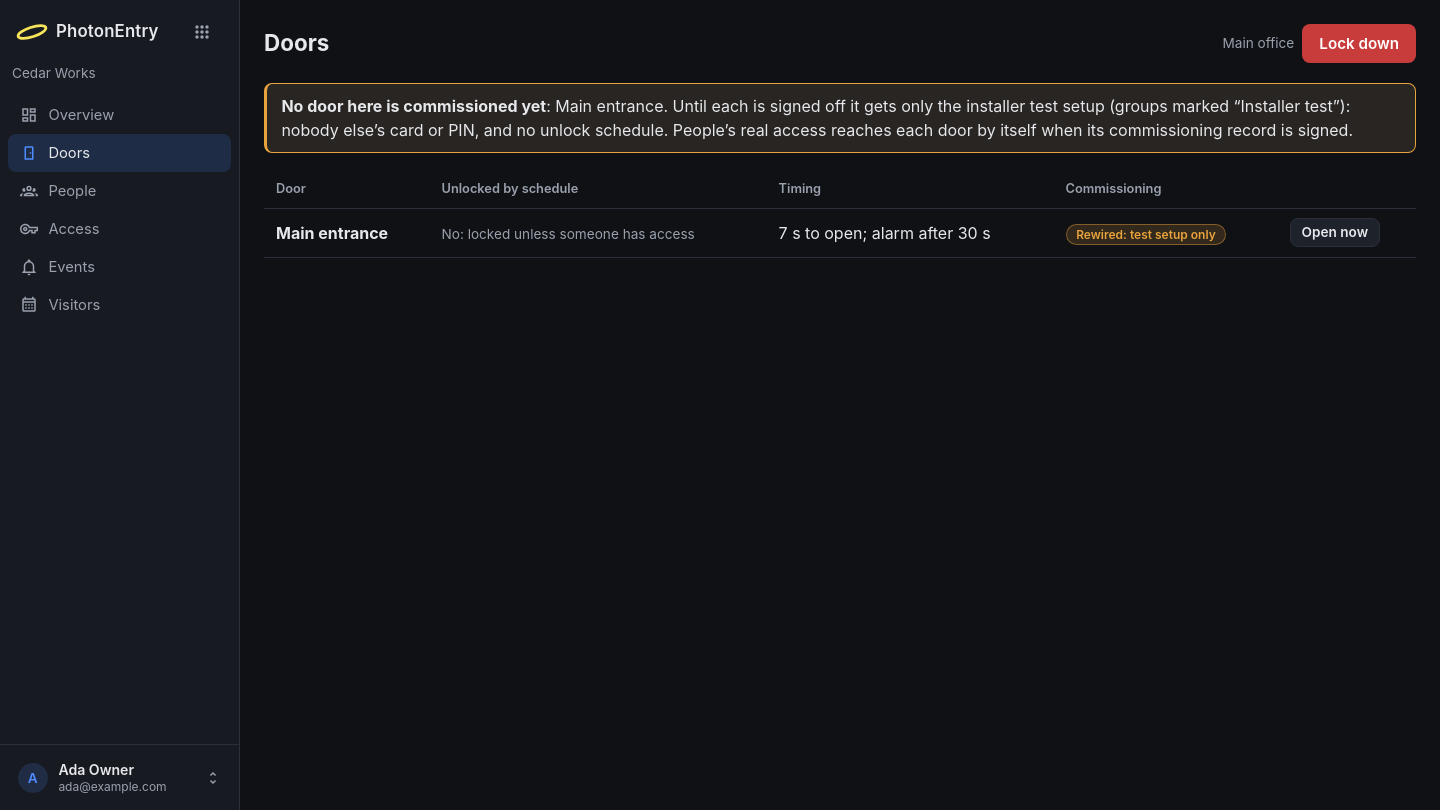
Test: commissioning › an operator sees the state but cannot sign
The width and height of the screenshot is (1440, 810).
Click the button with aria-label "Main entrance: commissioning record": {"x": 1146, "y": 234} [1066, 224, 1226, 244]
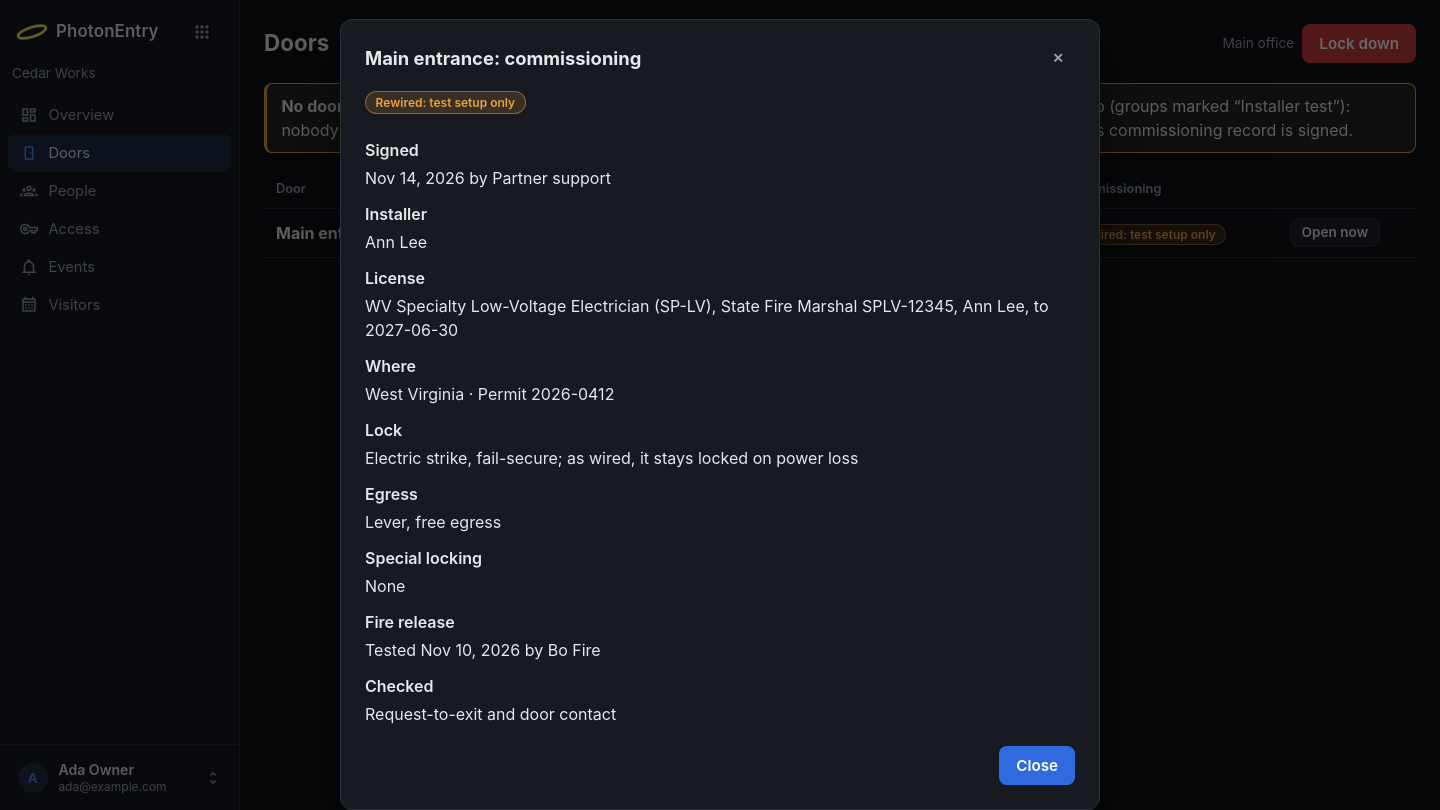
Check: the text "Rewired: test setup only" is shown, box [365, 91, 526, 114]
